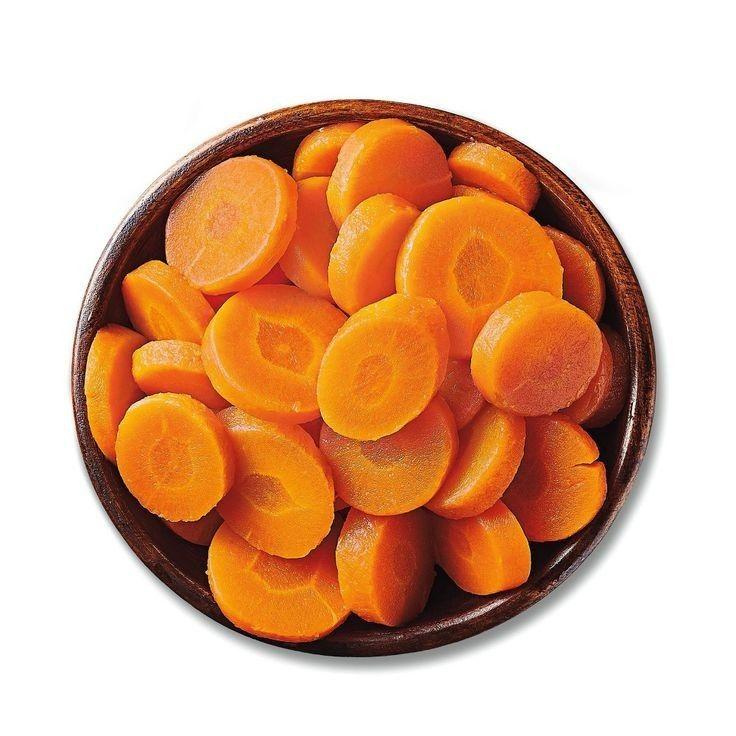buah_sayur_vitA: (128, 405, 207, 507), (348, 310, 419, 422), (437, 207, 519, 297), (505, 310, 578, 411), (240, 297, 307, 407), (240, 439, 308, 543), (202, 170, 267, 270), (245, 557, 322, 628), (350, 440, 434, 487), (368, 140, 434, 195)
